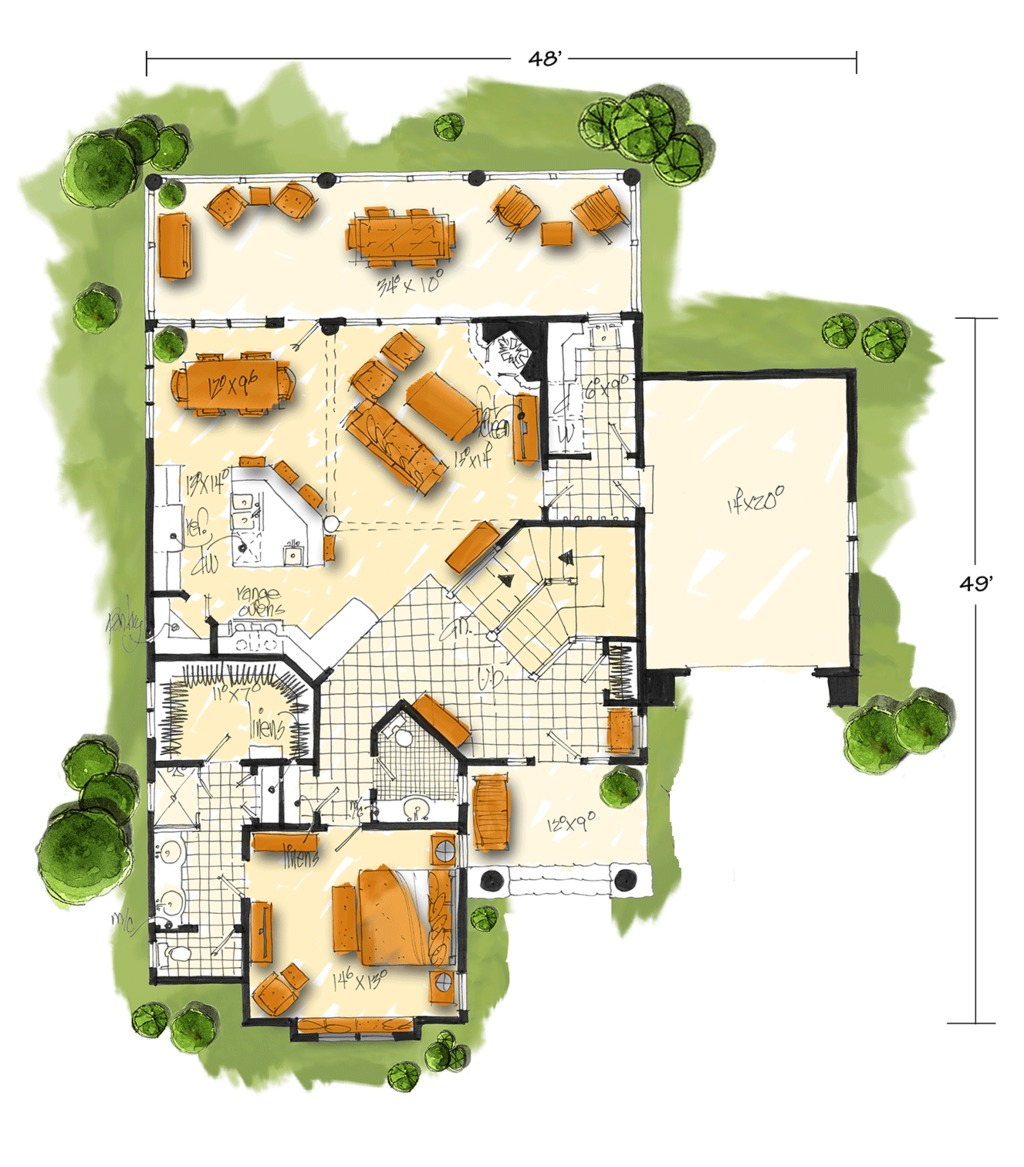bed: (322, 849, 465, 979)
dining_table: (340, 201, 475, 287), (149, 352, 305, 421)
kitchen_bar: (215, 436, 356, 587)
large_sink: (158, 930, 204, 976), (376, 718, 422, 758)
large_sofa: (336, 396, 456, 505)
sink: (584, 310, 636, 354)
small_sink: (149, 830, 189, 923), (384, 792, 455, 827)
small_sofa: (200, 176, 327, 236), (571, 183, 631, 254), (491, 181, 536, 243)
stairs: (447, 514, 662, 669)
twin_sink: (229, 487, 265, 536)
window: (838, 499, 873, 583)
